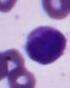L: (23, 25, 69, 65)
